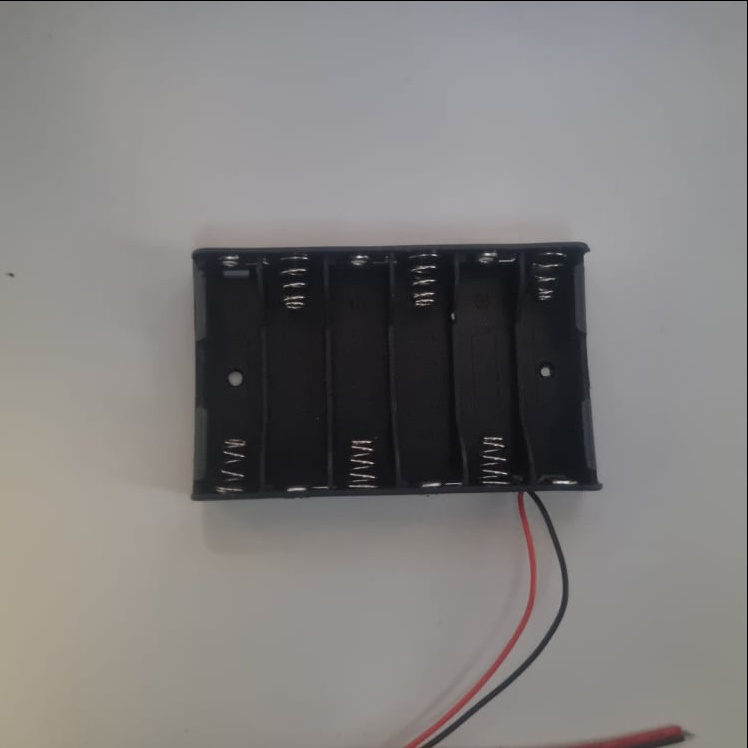BATTERY BOX: (189, 240, 604, 498)
